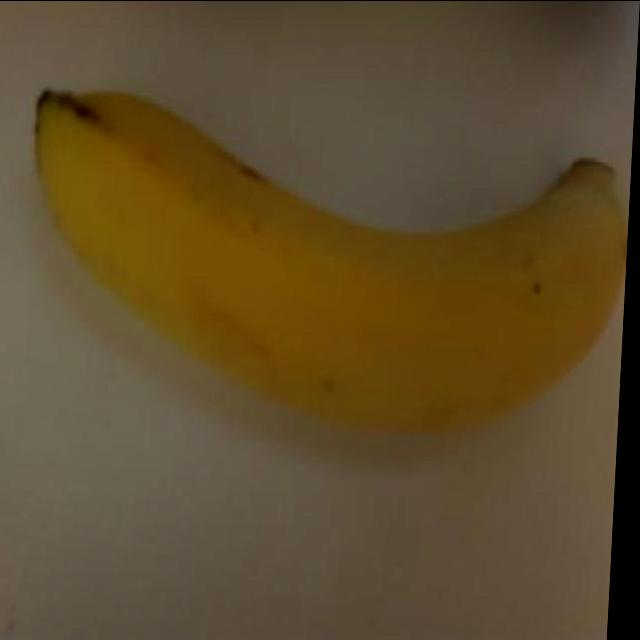banana: (0, 71, 636, 460)
